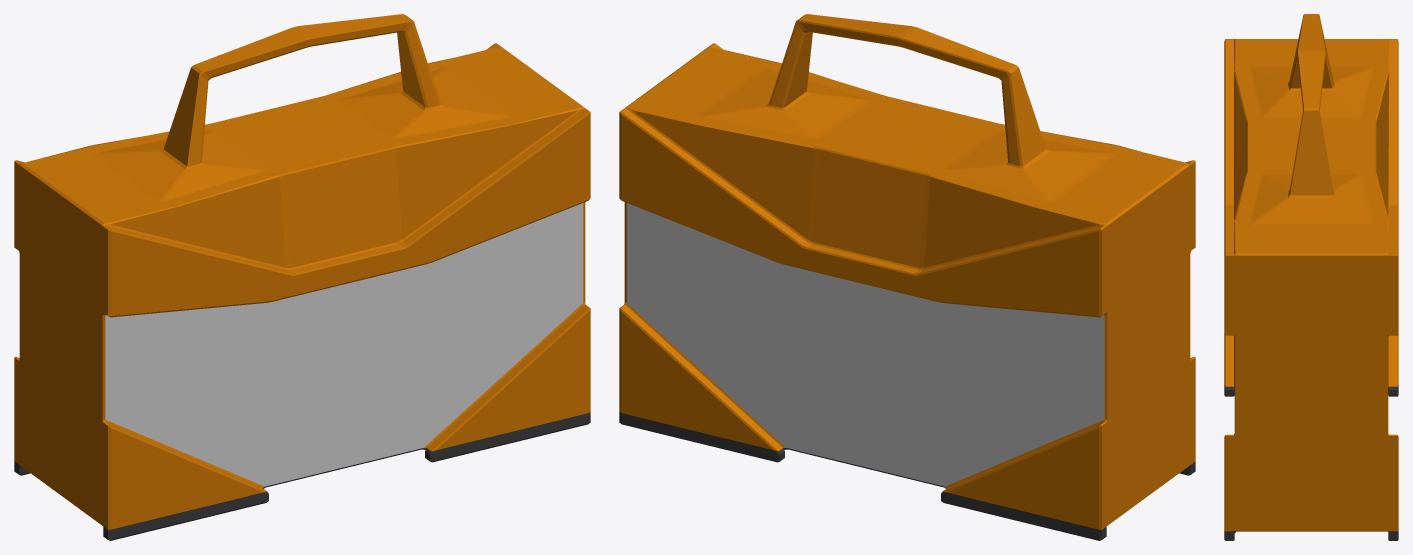
The model's file is RepairKit.fbx.
3 renders of one model, left to right at view 1: azimuth 30°, elevation 25°; view 2: azimuth 150°, elevation 25°; view 3: azimuth 270°, elevation 25°, orthographic. The views are drawn at different scales.
Visible parts, largest first — view 1: RepairKit; view 2: RepairKit; view 3: RepairKit.
Boxes of the visible parts, box(x1,y1,x2,y2) form: RepairKit: box(14, 14, 590, 540); RepairKit: box(619, 14, 1195, 540); RepairKit: box(1224, 14, 1398, 540).
Size of the model in its own units: 50 by 41.19 by 17.
